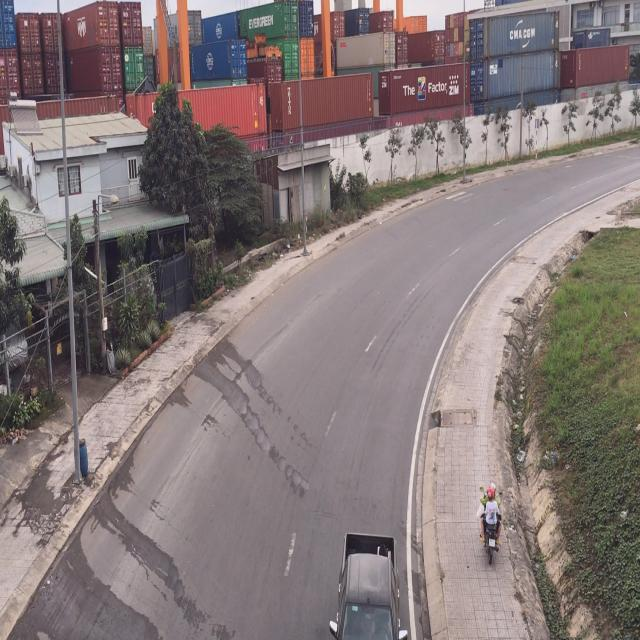car: (332, 528, 408, 640)
motorbike: (477, 484, 502, 561)
